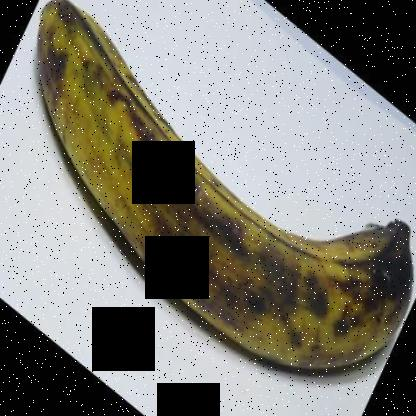overripe: (32, 0, 415, 409)
